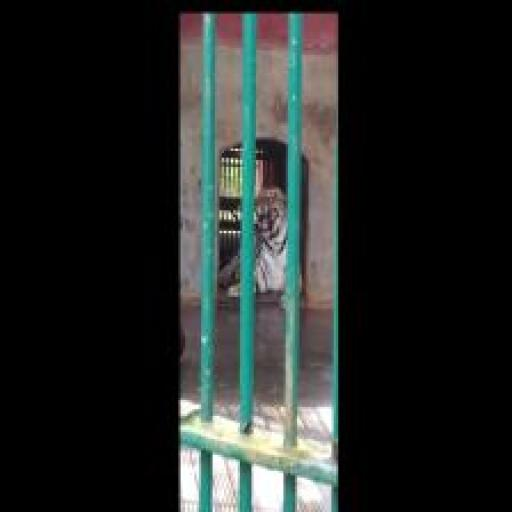Tiger: (219, 167, 311, 313)
